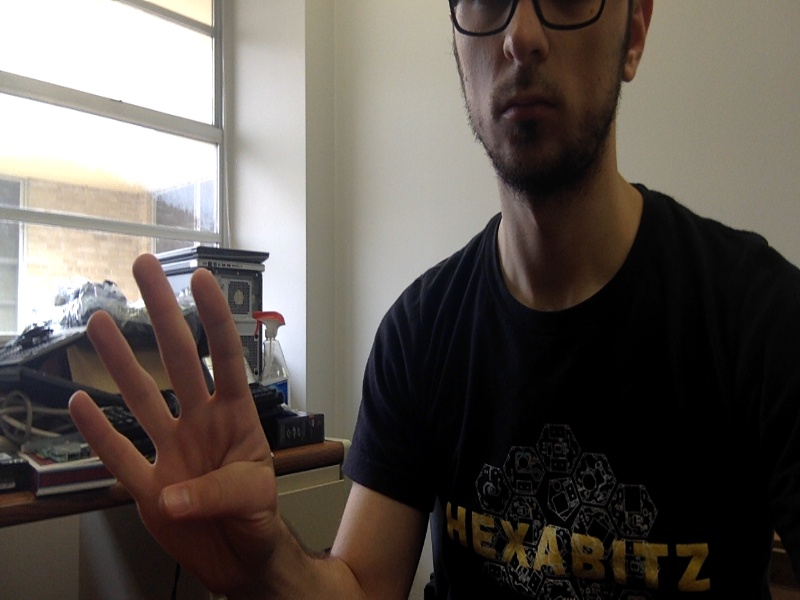4-hand: (66, 253, 282, 599)
